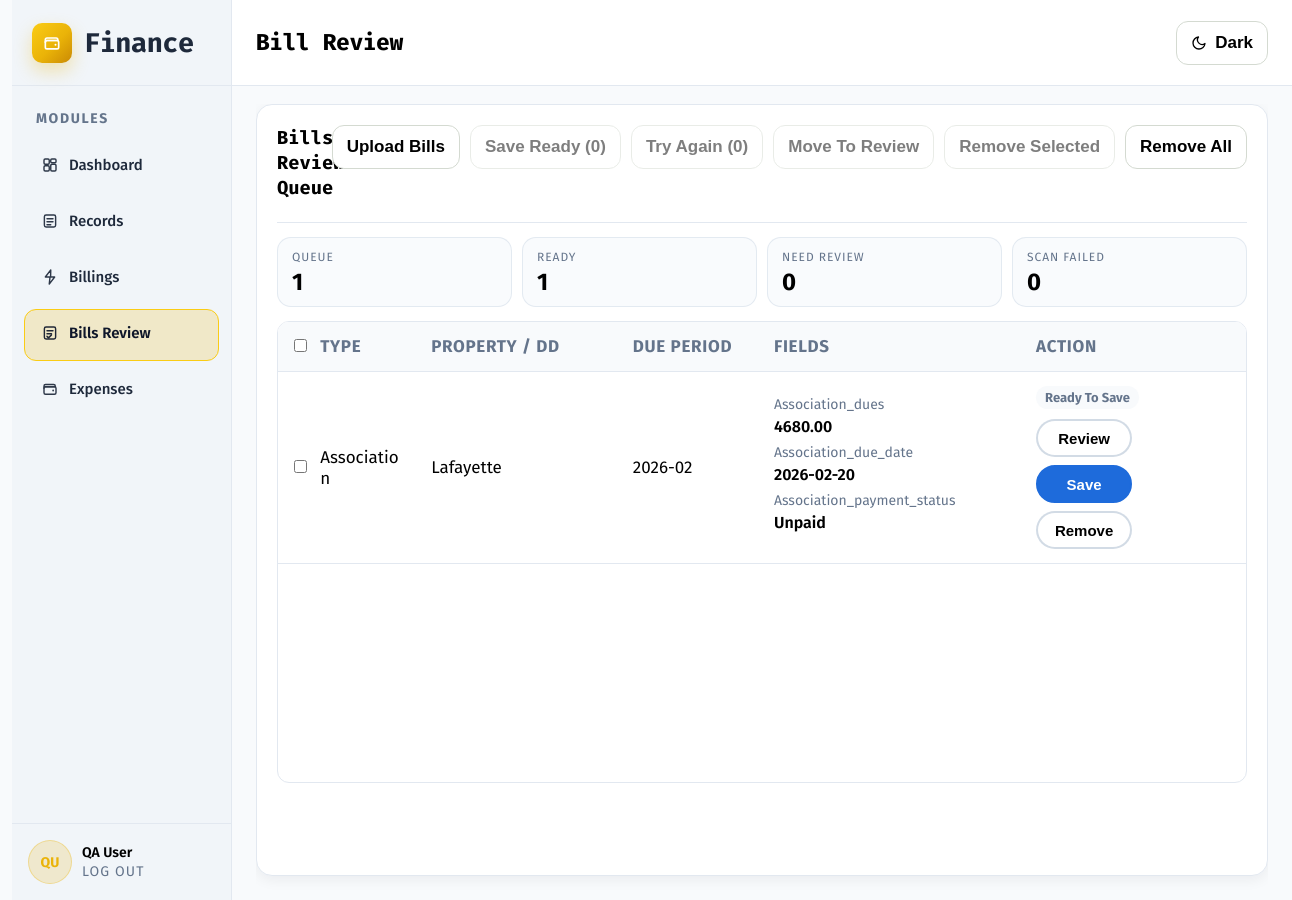
Test: Billing flow integration coverage › keeps desktop Bill Review rows compact until Review is opened
Check: the text "Association" is shown, box x1=308 y1=372 x2=419 y2=564
Check: the text "OCR extracted enough bill data to save this row." is not shown
What coordinates should you click on to do the following:
click the button "Review"
I would click on:
 (1084, 438)
Its box is x1=1036 y1=419 x2=1132 y2=457.
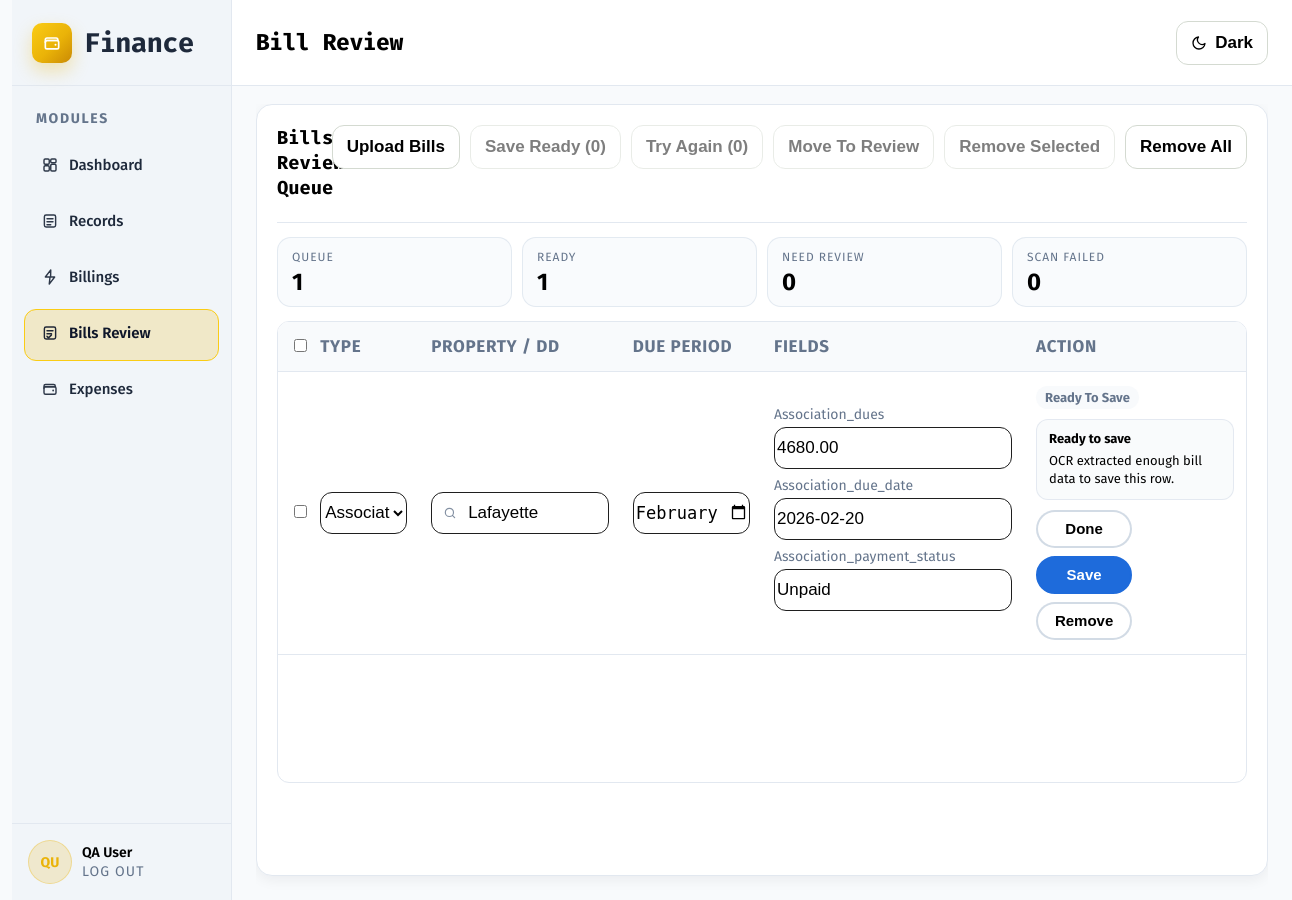
Check: the text "OCR extracted enough bill data to save this row." is shown, box x1=1049 y1=452 x2=1221 y2=489
